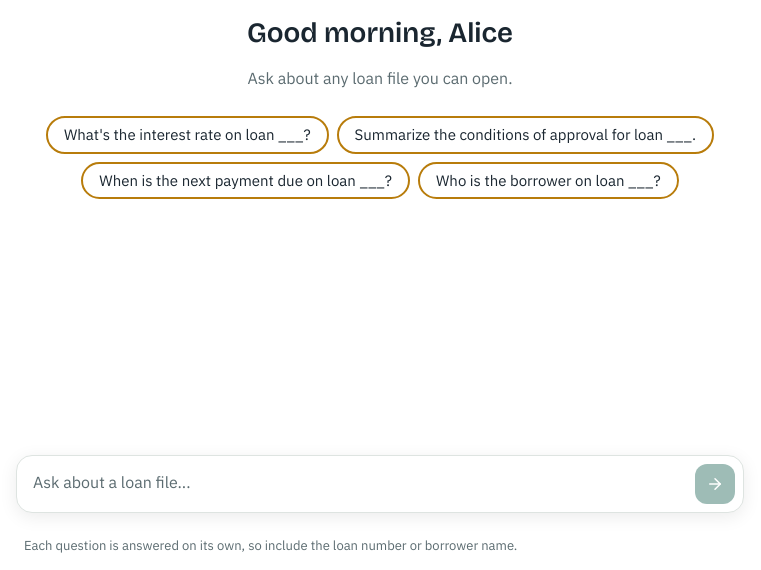
chat (UI-F5 to UI-F13) › shows starters that fill the composer without sending
Expected: the heading "Good morning, Alice" is shown, [247,17,513,50]
Click the button "What's the interest rate on loan ___?" at {"x": 187, "y": 135}, box [46,116,329,154]
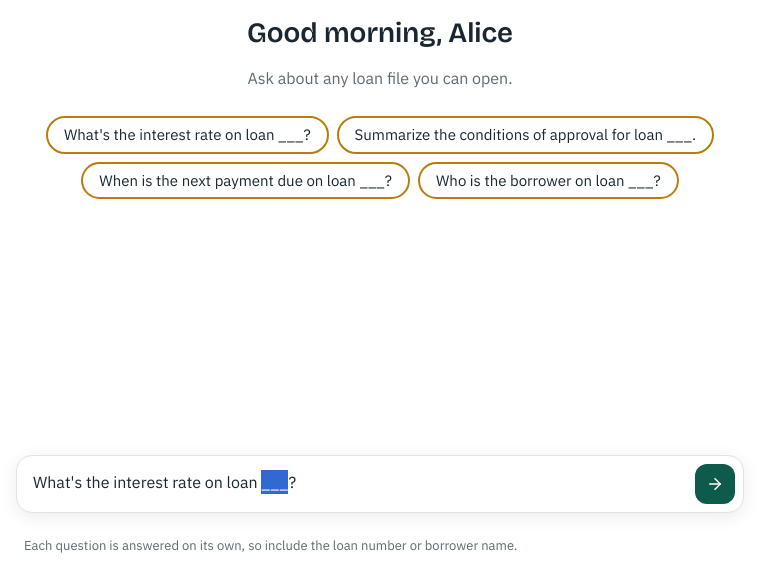
Expected: the text box named "Your question" holds "What's the interest rate on loan ___?", [25,464,687,504]
